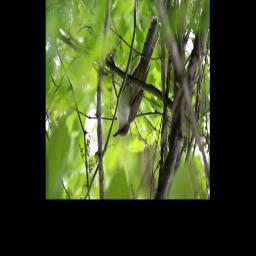Cuckoo: (112, 15, 161, 140)
